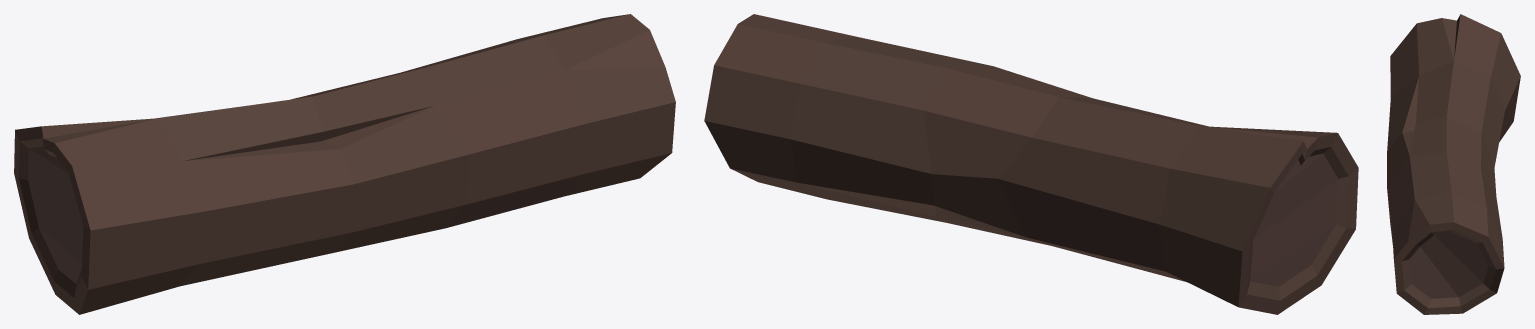
Rendered from firewood.glb.
The picture shows the model from 3 angles, left to right: view 1: azimuth 30°, elevation 25°; view 2: azimuth 150°, elevation 25°; view 3: azimuth 270°, elevation 25°; orthographic projection. The views are drawn at different scales.
Visible parts, largest first — view 1: firewood; view 2: firewood; view 3: firewood.
Boxes of the visible parts, left/top/right/bottom form: firewood: left=14, top=14, right=675, bottom=314; firewood: left=704, top=14, right=1358, bottom=314; firewood: left=1387, top=14, right=1520, bottom=314.
Bounding box in the file's own units: 0.55 × 0.1596 × 0.1618.
